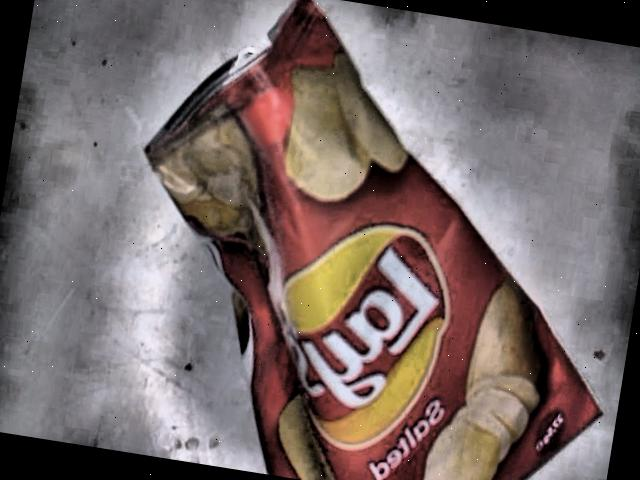Plastic: (143, 0, 602, 480)
